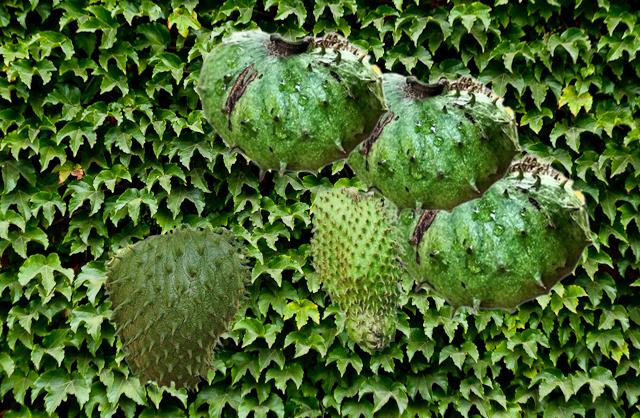guyabano: (383, 153, 593, 320), (195, 29, 388, 181), (343, 72, 521, 220), (103, 222, 254, 395), (308, 185, 408, 354)
